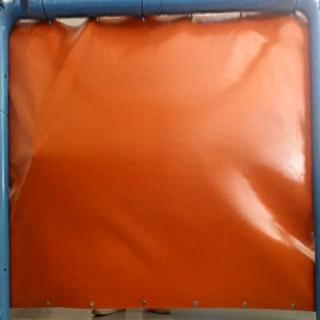Hit-hRxx: (29, 142, 42, 160)
